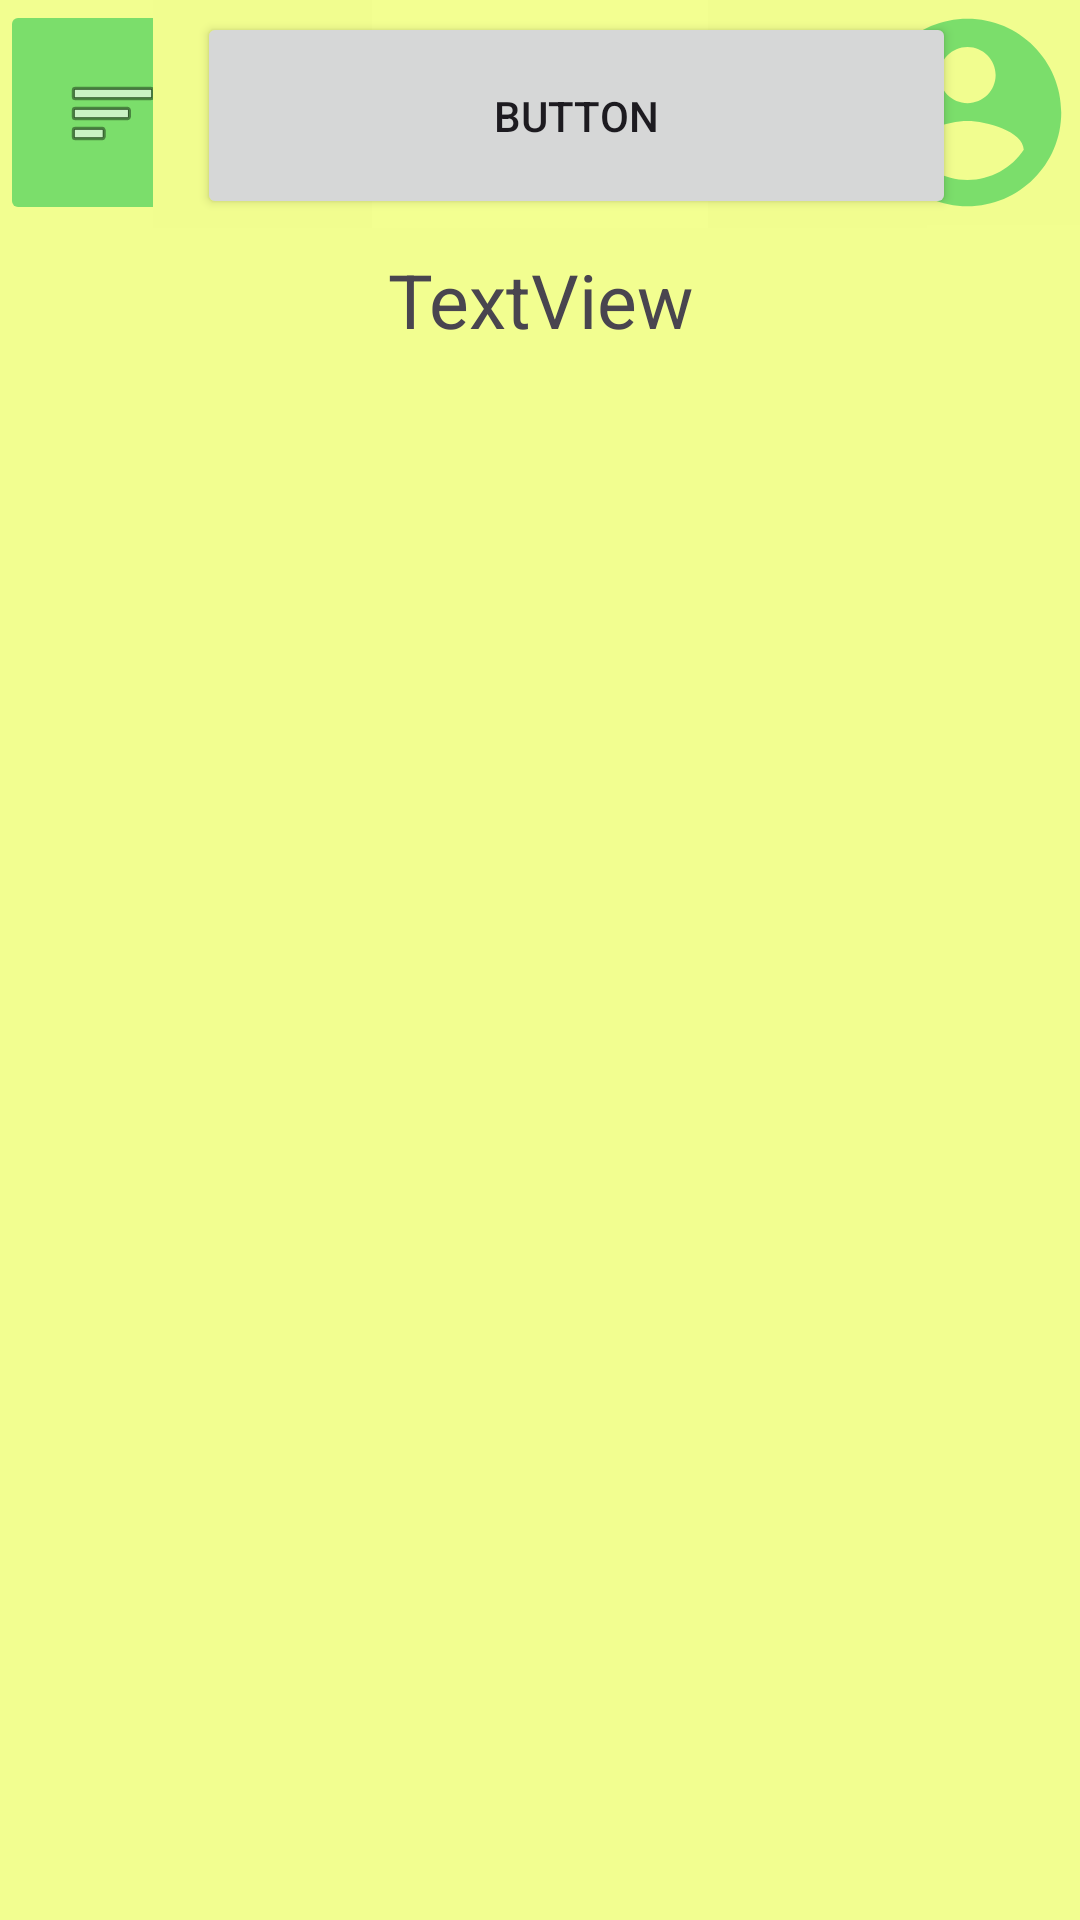

Where to tap for icons on this 1080x1920 app screen, as point (x, y):
sort by size: point (82, 112)
